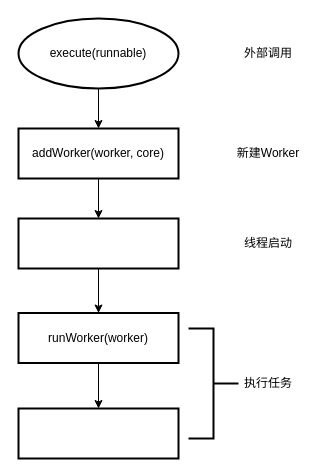
The diagram is 320 pixels wide and 476 high, and some of its shapes have lost their labels. The box of each missing label's shape, as (x1, y1, x2, y2) in pixels:
getTask()/task.run 无限循环: (17, 407, 179, 459)
worker.thread.start(): (17, 217, 179, 269)
